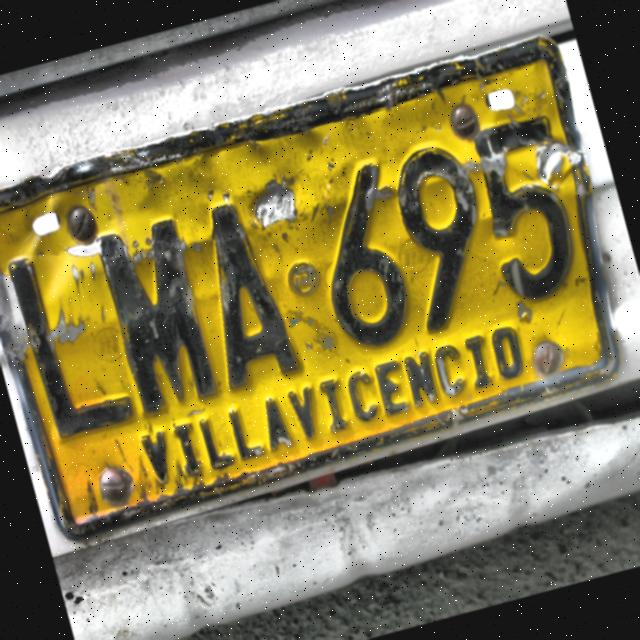plate: (0, 48, 617, 528)
